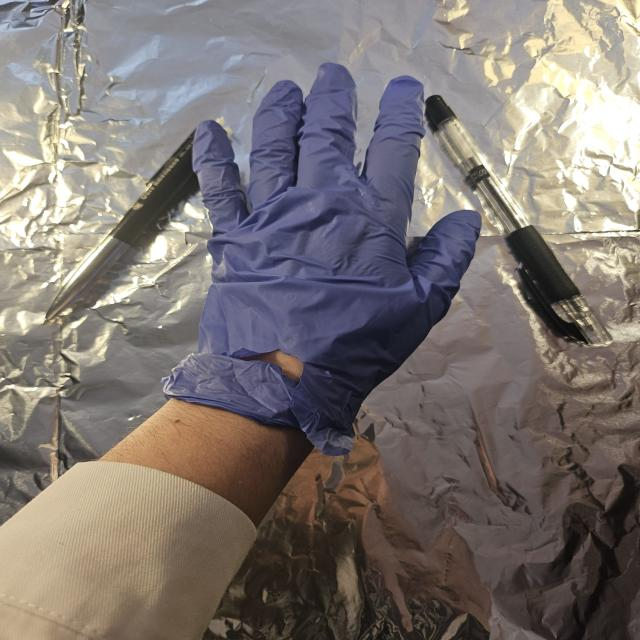gloves_damaged: (157, 60, 483, 455)
